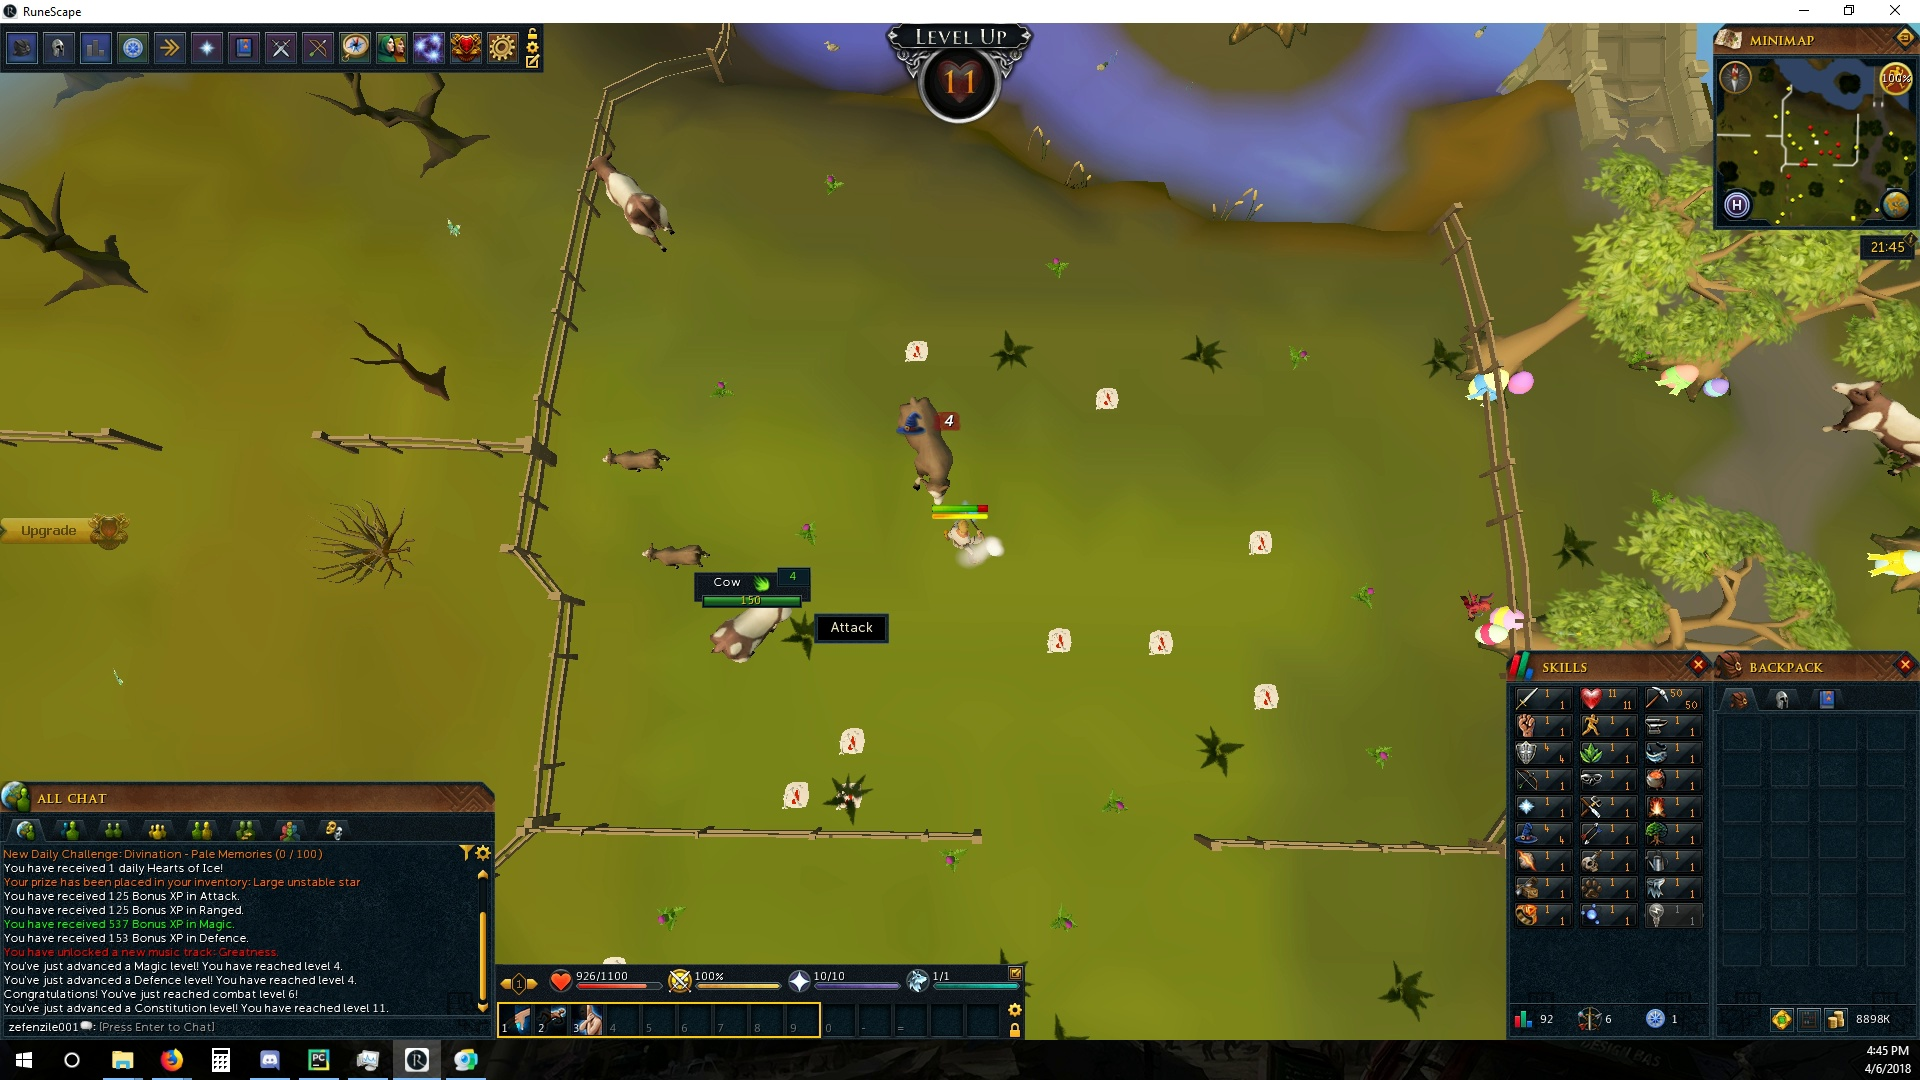calf: (597, 442, 676, 475), (642, 541, 716, 571)
cow: (584, 150, 688, 262), (1816, 375, 1920, 475), (887, 386, 963, 502), (703, 608, 798, 675)
cow_drop: (832, 779, 866, 812), (837, 724, 869, 757), (781, 779, 811, 808), (1251, 680, 1280, 711), (1149, 626, 1176, 657), (1044, 626, 1073, 654), (901, 339, 931, 364), (1095, 386, 1124, 411), (1247, 531, 1275, 555)
